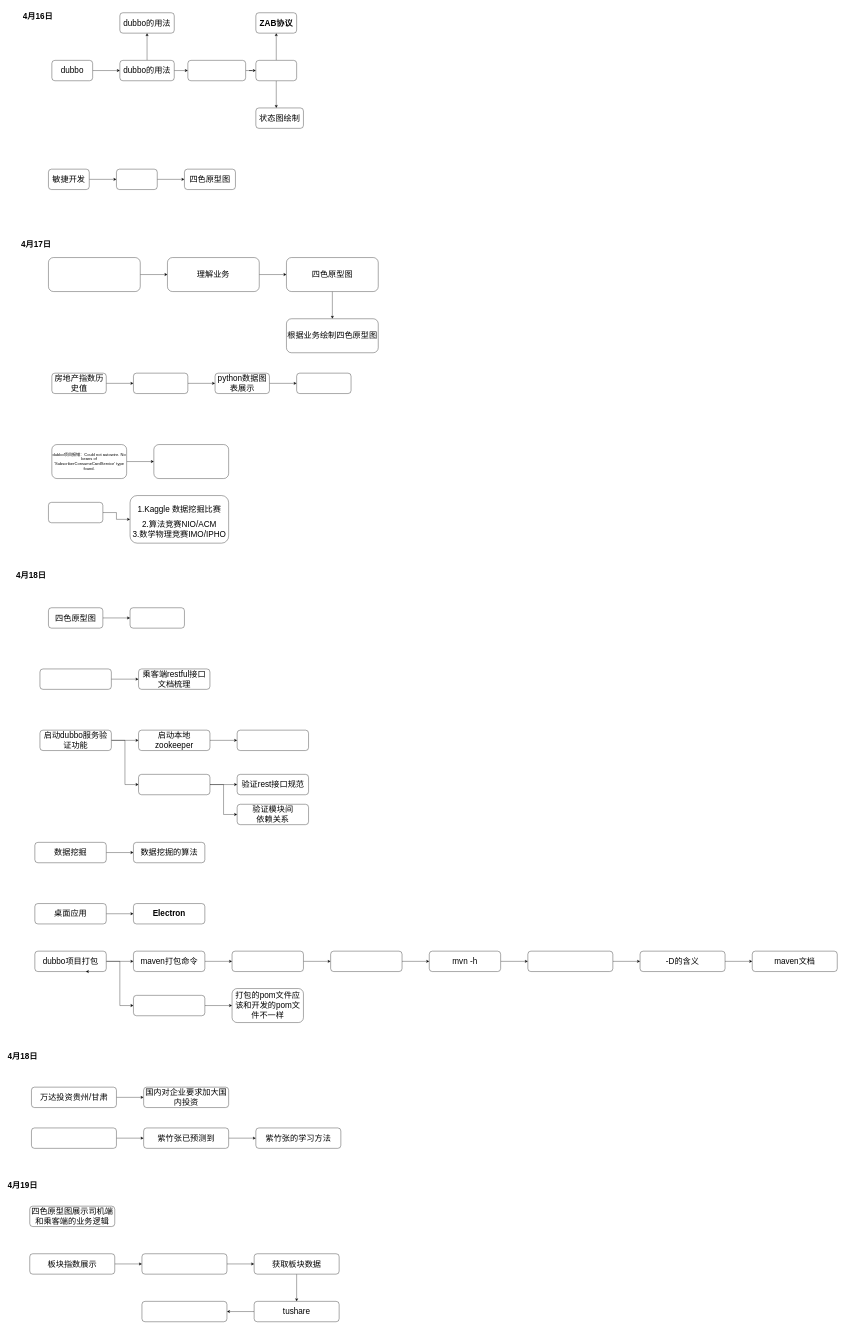
Some shapes in this 843 by 1328 pixel diagram are drawn without their labels. The shapes that lost their labels are listed below. From the top down, each one's box as (x1, y1, x2, y2) in pixels, then its label:
(188, 60, 246, 81): dubbo的原理
(256, 60, 297, 81): ZK的原理
(116, 169, 157, 190): 需求分解
(48, 257, 140, 292): dubbo 注解@ Reference 的用法
(133, 373, 188, 394): 数据获取
(296, 373, 351, 394): Matplotlib
(154, 444, 229, 479): dubbo包的引入问题
(48, 502, 103, 523): 盈利策略
(130, 607, 184, 628): 乘客端四色原型图绘制
(40, 669, 111, 689): restful接口设计
(237, 730, 309, 751): 配置ZK
(138, 774, 210, 795): 使用postman验证接口功能
(232, 951, 303, 972): 百度搜索
(330, 951, 402, 972): maven官方文档
(528, 951, 613, 972): -Dmaven.test.skip
(133, 995, 205, 1016): 打完包之后的运行
(31, 1128, 116, 1148): 非洲猪瘟导致国内肉价上涨
(142, 1253, 227, 1274): 阿布不支持
(142, 1301, 227, 1322): 需要存储进入mongodb
